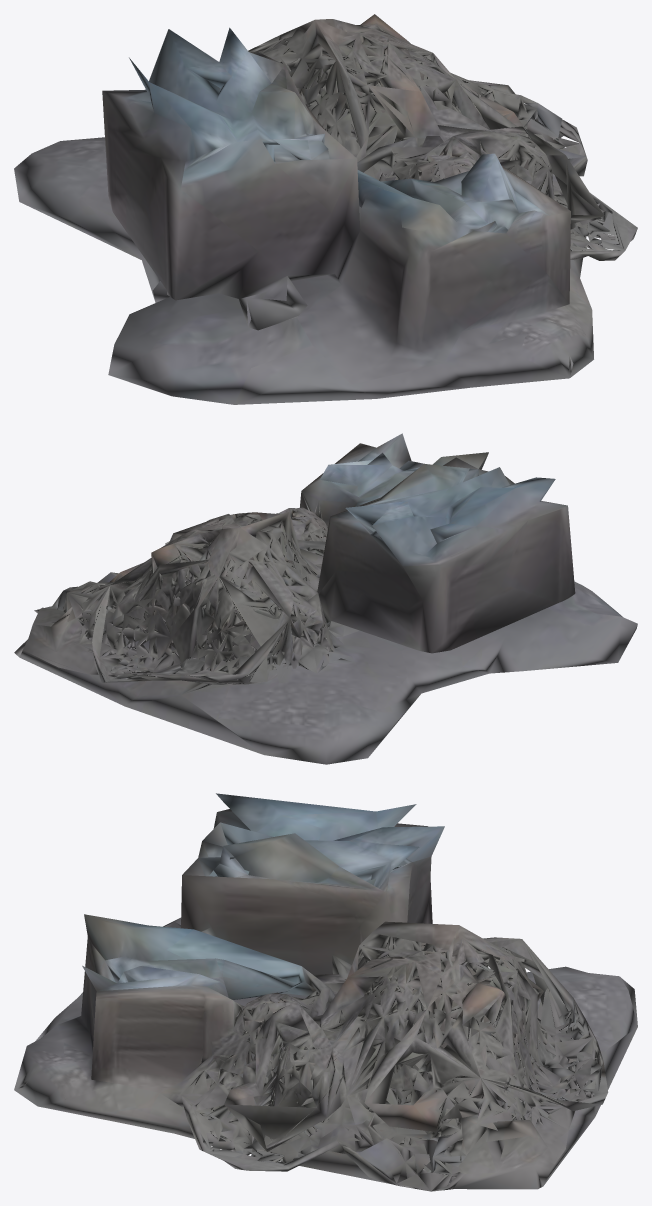
File: fishing_jetty_fish_crates.glb
3 views of the same model, one above another, from view 1: azimuth 30°, elevation 25°; view 2: azimuth 150°, elevation 25°; view 3: azimuth 270°, elevation 25° (orthographic). The views are drawn at different scales.
Visible parts, largest first — view 1: tripo_node_325bdb54-b63f-4baa-9c48-9b44ec6afdd3; view 2: tripo_node_325bdb54-b63f-4baa-9c48-9b44ec6afdd3; view 3: tripo_node_325bdb54-b63f-4baa-9c48-9b44ec6afdd3.
Part boxes in pixels (<box>): tripo_node_325bdb54-b63f-4baa-9c48-9b44ec6afdd3: <box>14,14,637,404</box>; tripo_node_325bdb54-b63f-4baa-9c48-9b44ec6afdd3: <box>14,433,637,764</box>; tripo_node_325bdb54-b63f-4baa-9c48-9b44ec6afdd3: <box>14,793,637,1191</box>.
Size of the model in its own units: 0.989 by 0.3437 by 1.
1 material, 1 textured.
